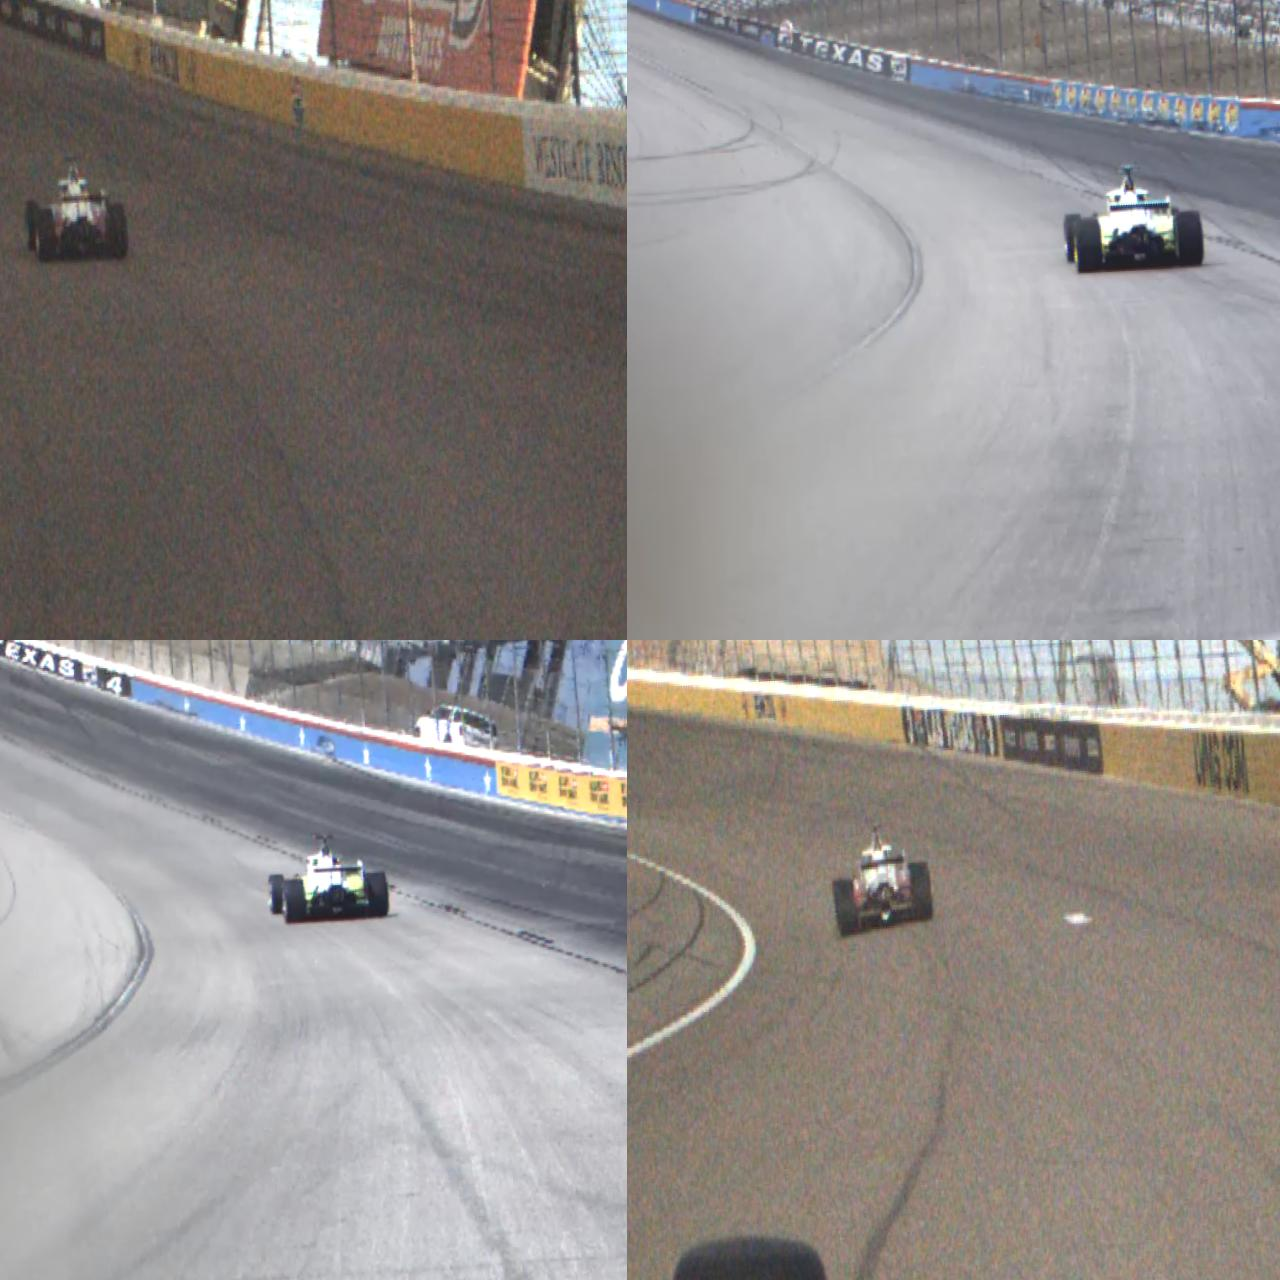AV: (1059, 160, 1204, 274), (21, 152, 130, 266), (829, 820, 933, 939), (264, 829, 391, 925)
Wheel: (1174, 209, 1204, 268), (1072, 217, 1102, 274), (832, 878, 859, 938), (909, 861, 932, 922), (34, 208, 56, 264), (365, 871, 390, 919), (282, 878, 307, 924), (109, 203, 129, 260), (1062, 212, 1083, 264), (23, 198, 41, 252), (268, 874, 286, 914)
